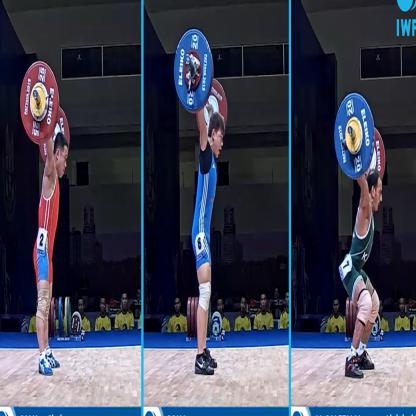Barbell: (17, 56, 62, 146), (334, 90, 378, 181), (172, 28, 216, 115)
